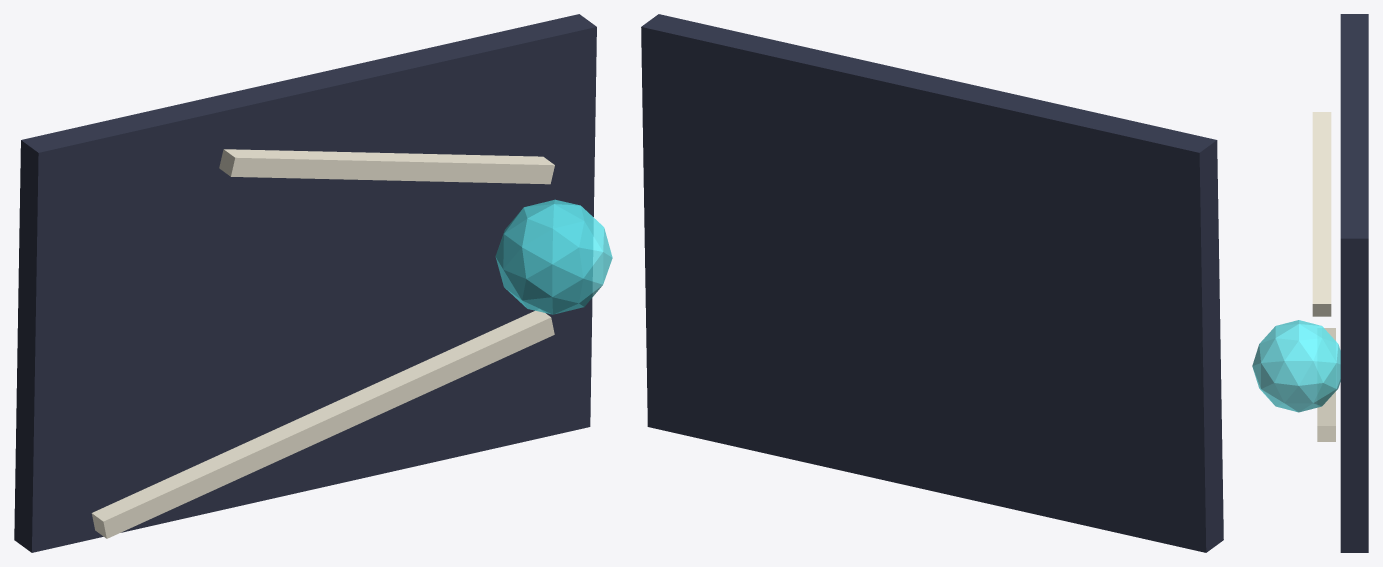
File: 02_world_prop_polish.glb
3 views of the same model, side by side, from view 1: azimuth 30°, elevation 25°; view 2: azimuth 150°, elevation 25°; view 3: azimuth 270°, elevation 25° (orthographic). The views are drawn at different scales.
Visible parts, largest first — view 1: object_overlay_plate, edge_wear_a, glow_socket, edge_wear_b; view 2: object_overlay_plate; view 3: object_overlay_plate, glow_socket, edge_wear_b, edge_wear_a.
Boxes of the visible parts, left/top/right/bottom form: object_overlay_plate: left=14, top=14, right=596, bottom=552; edge_wear_a: left=91, top=309, right=554, bottom=538; glow_socket: left=495, top=199, right=612, bottom=314; edge_wear_b: left=219, top=149, right=554, bottom=184; object_overlay_plate: left=641, top=14, right=1223, bottom=552; object_overlay_plate: left=1340, top=14, right=1368, bottom=552; glow_socket: left=1252, top=320, right=1340, bottom=412; edge_wear_b: left=1312, top=112, right=1331, bottom=316; edge_wear_a: left=1317, top=328, right=1335, bottom=441.
Bounding box in the file's own units: 1.11 × 0.7691 × 0.25.
